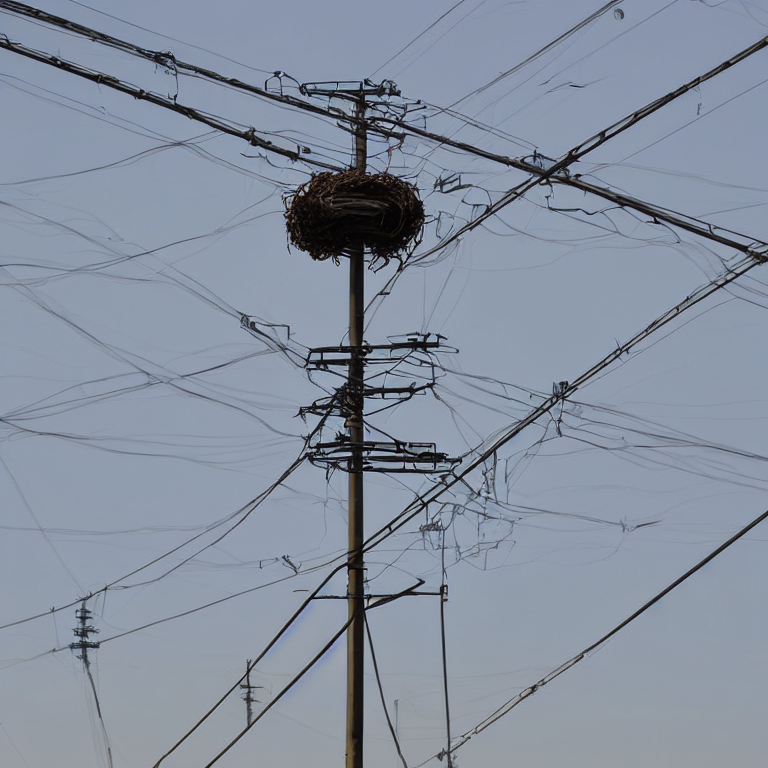nest: (290, 172, 418, 252)
